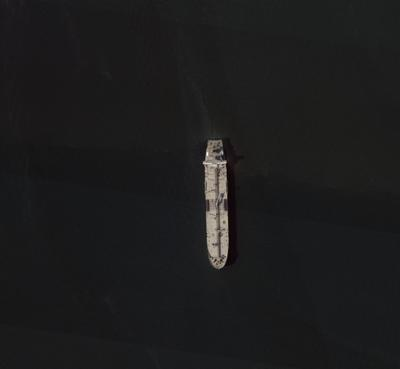Boat: (201, 137, 235, 272)
